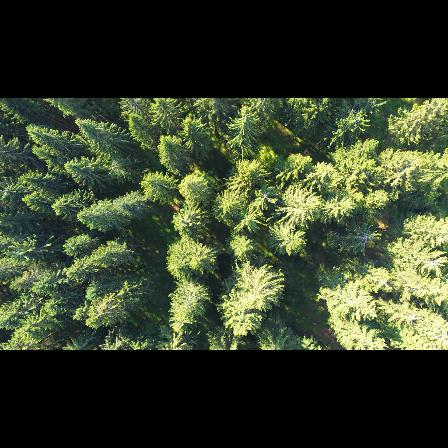Sick: (351, 220, 385, 259), (255, 187, 276, 209)
